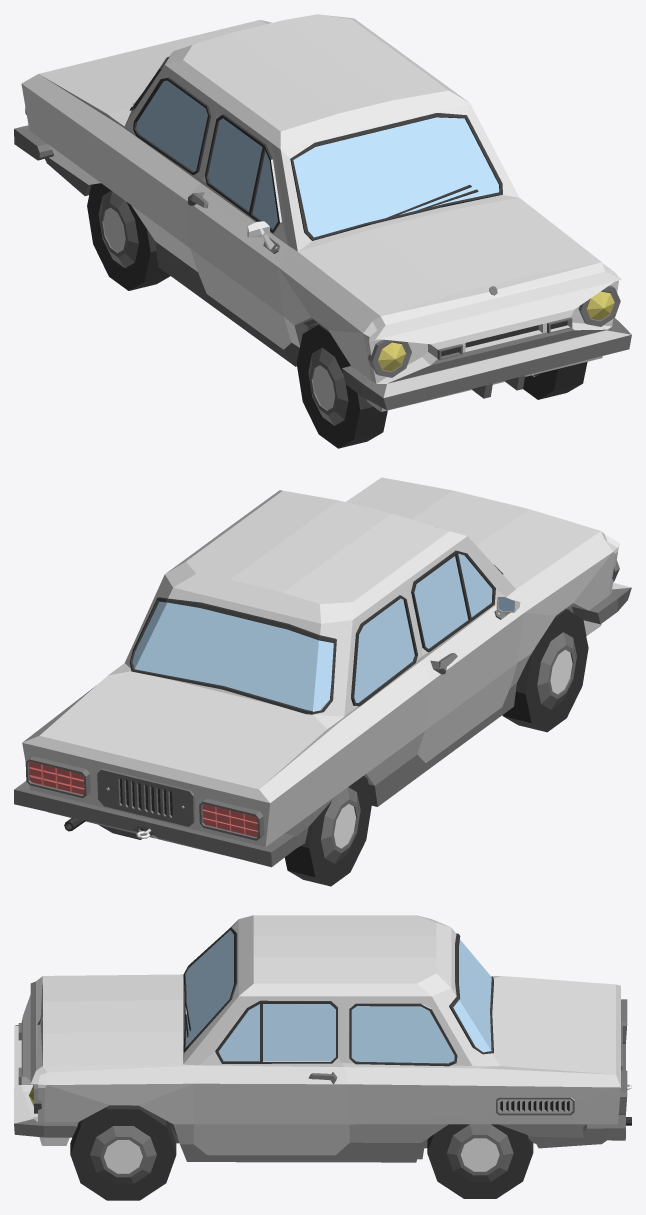
File: car.fbx
3 renders of one model, top to bottom at view 1: azimuth 30°, elevation 25°; view 2: azimuth 150°, elevation 25°; view 3: azimuth 270°, elevation 25°, orthographic. The views are drawn at different scales.
Visible parts, largest first — view 1: Cube, Cylinder.002, Cylinder.003, Cylinder.001, Cylinder; view 2: Cube, Cylinder.002, Cylinder.003; view 3: Cube, Cylinder.002, Cylinder.003.
Part boxes in pixels (x1,y1,x2,y2): Cube: (14,14,631,411); Cylinder.002: (296,324,587,448); Cylinder.003: (87,183,170,290); Cylinder.001: (367,339,411,377); Cylinder: (578,285,620,326); Cube: (14,477,631,867); Cylinder.002: (502,609,588,732); Cylinder.003: (98,776,372,886); Cube: (14,915,627,1162); Cylinder.002: (70,1105,176,1200); Cylinder.003: (427,1124,533,1198).
Size of the model in its own units: 283 by 251 by 677.
